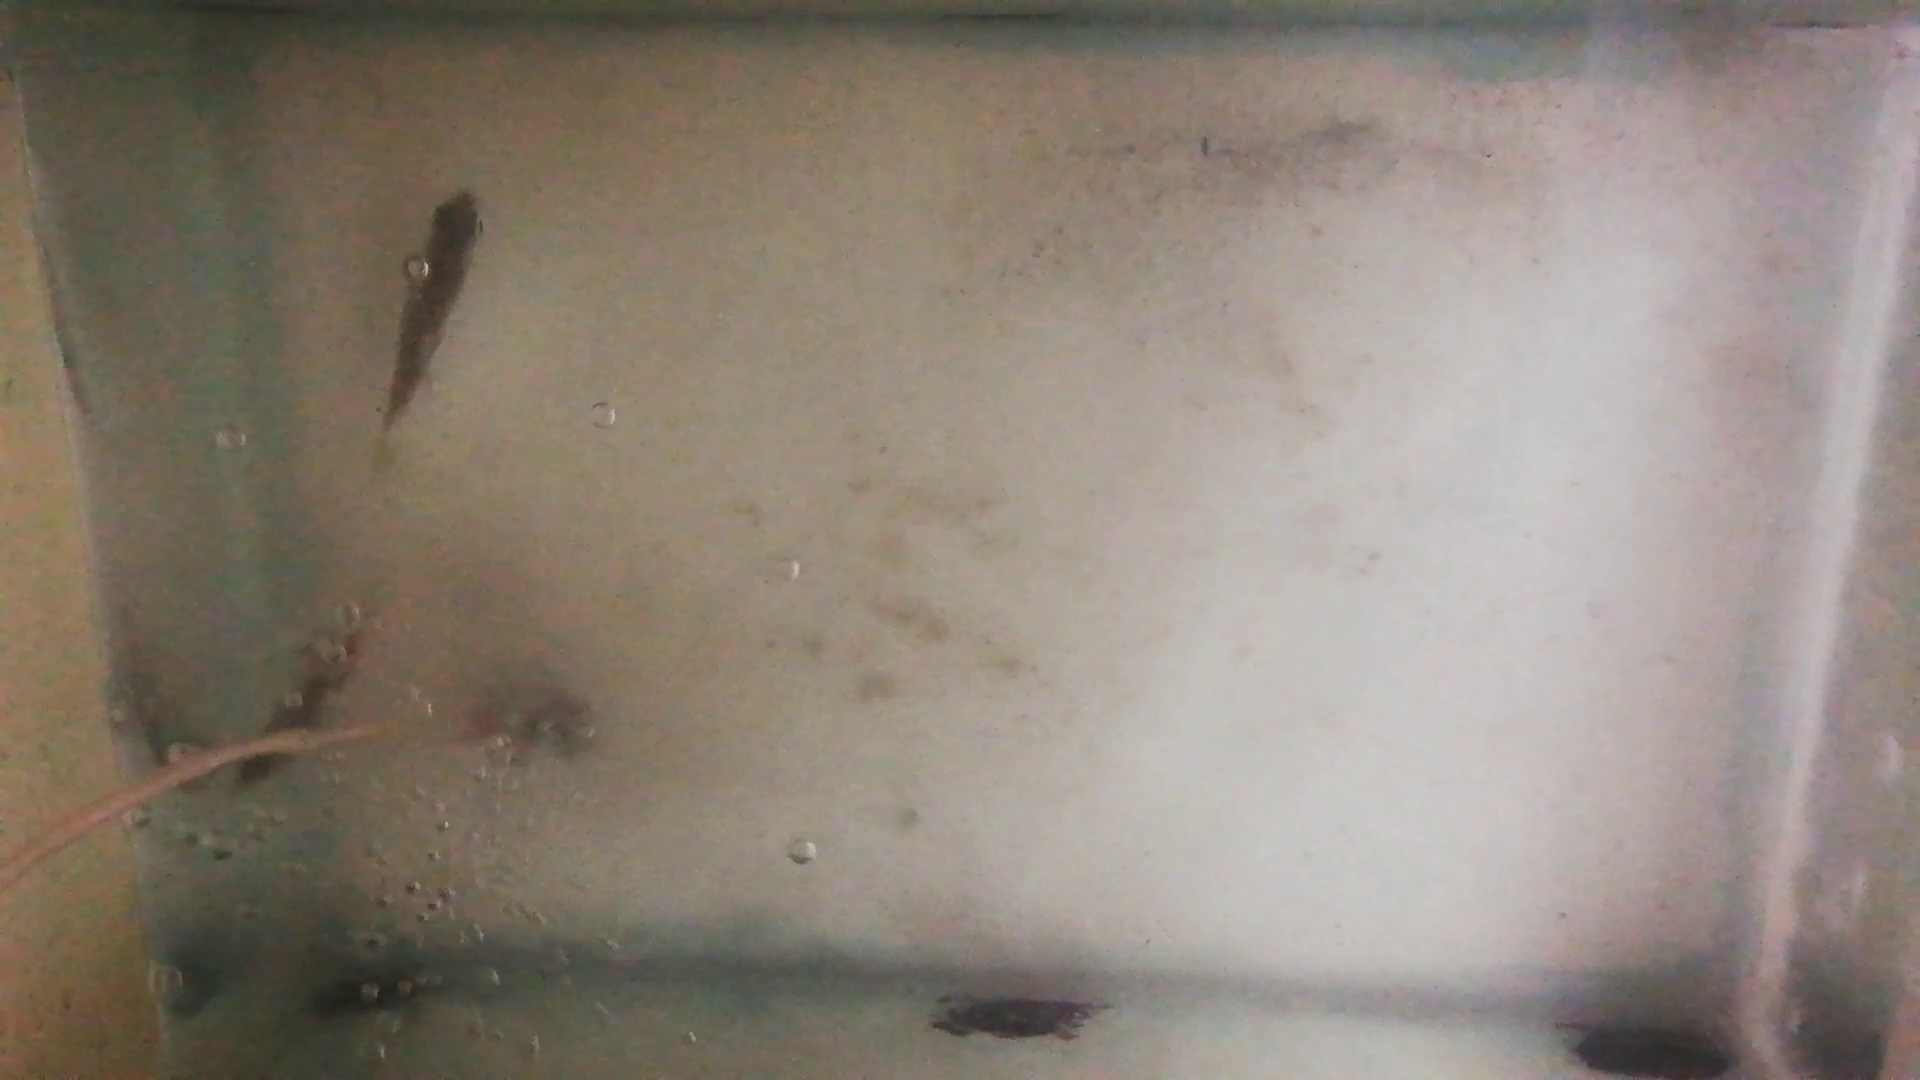fish: (381, 189, 487, 436), (239, 626, 372, 782)
